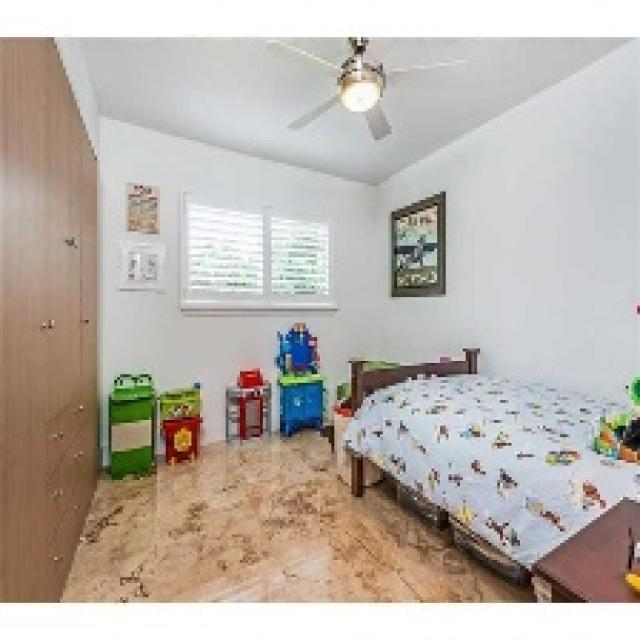Bed: (340, 346, 637, 586)
